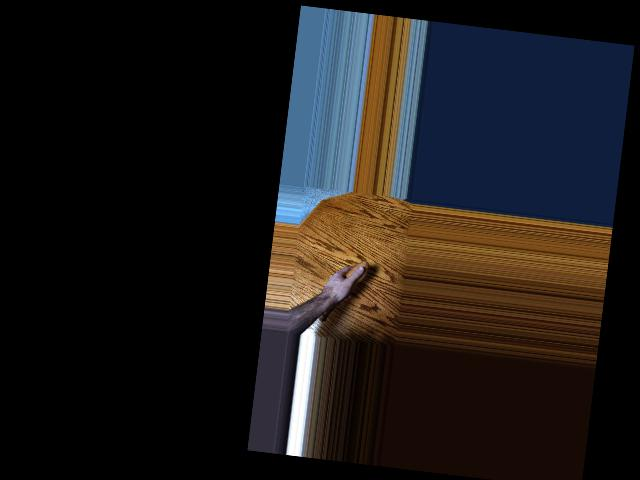sweet_potato: (317, 255, 369, 328)
